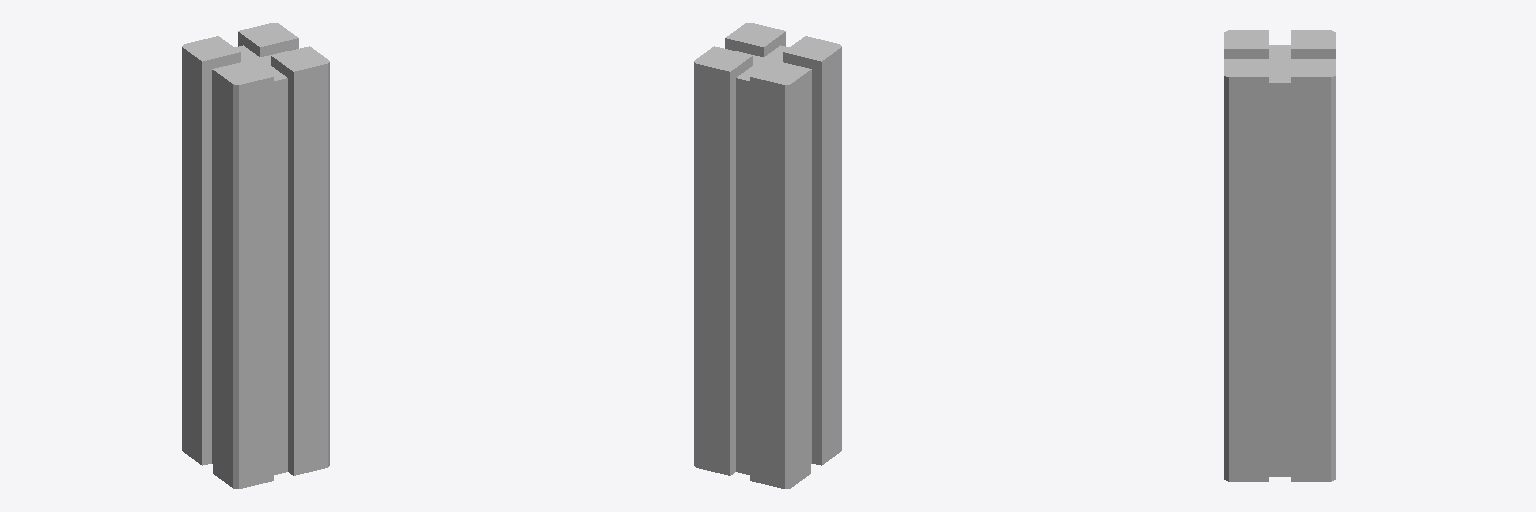
File: low-detail-building-g.obj
The picture shows the model from 3 angles: view 1: azimuth 30°, elevation 25°; view 2: azimuth 150°, elevation 25°; view 3: azimuth 270°, elevation 25°; orthographic projection.
Visible parts, largest first — view 1: low-detail-building-g; view 2: low-detail-building-g; view 3: low-detail-building-g.
Boxes of the visible parts, x1=… form: low-detail-building-g: x1=182, y1=23, x2=329, y2=488; low-detail-building-g: x1=694, y1=23, x2=841, y2=488; low-detail-building-g: x1=1224, y1=30, x2=1335, y2=481.
Size of the model in its own units: 0.5 by 2 by 0.5.